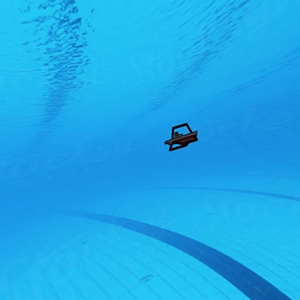submarine: (166, 123, 199, 153)
